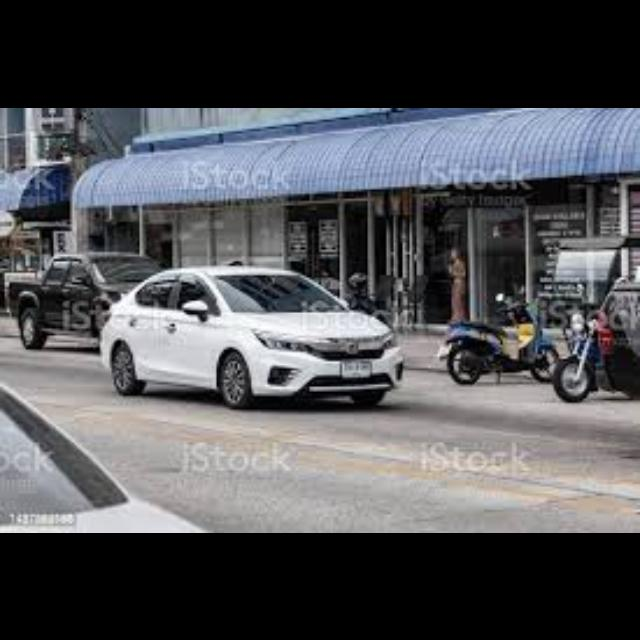vehicles: (98, 258, 402, 408)
